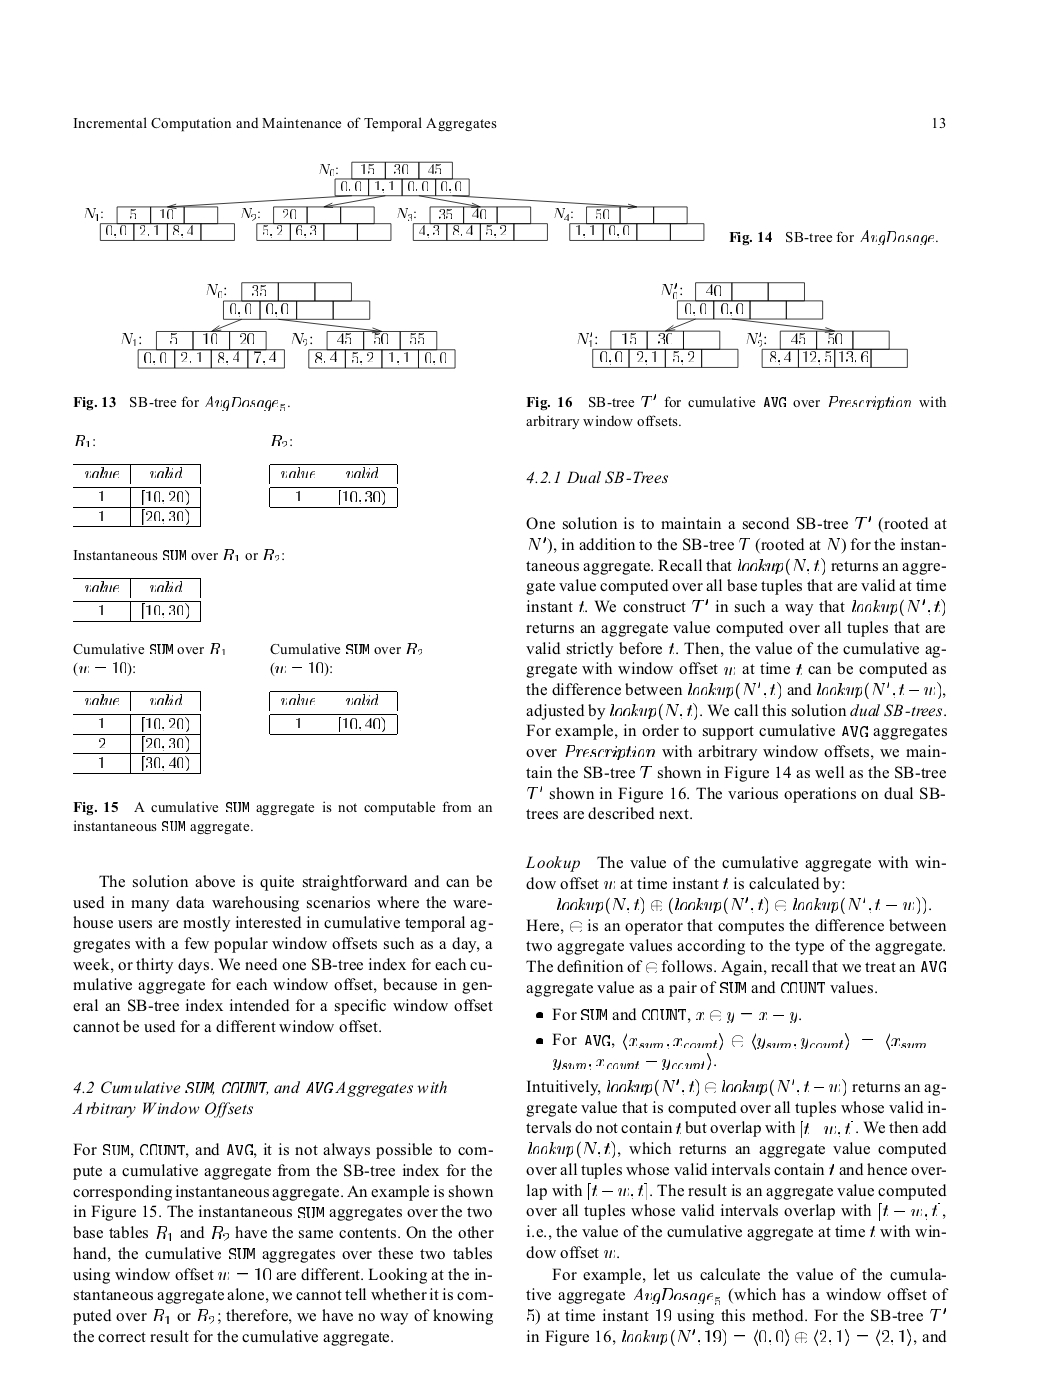Table: (74, 691, 199, 773), (74, 464, 199, 526), (269, 464, 397, 507), (269, 691, 397, 734), (74, 578, 199, 621)
figure: (84, 160, 937, 246), (121, 281, 455, 369), (577, 281, 907, 368)
